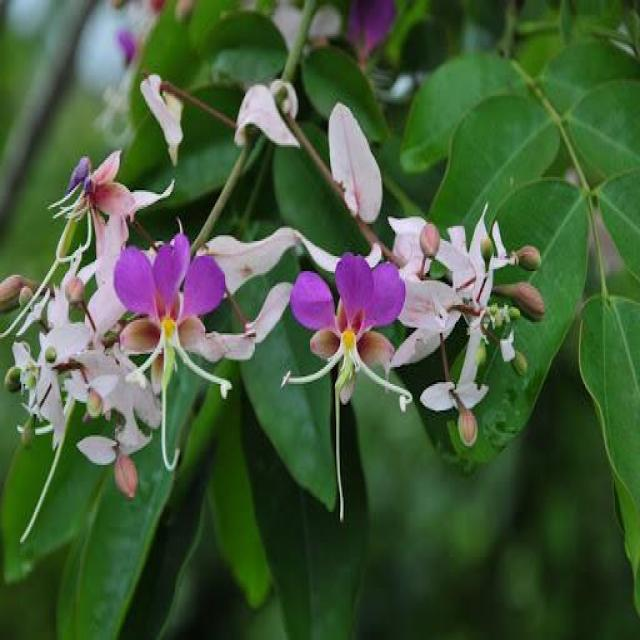organic waste: (103, 220, 243, 426), (274, 243, 420, 422)
